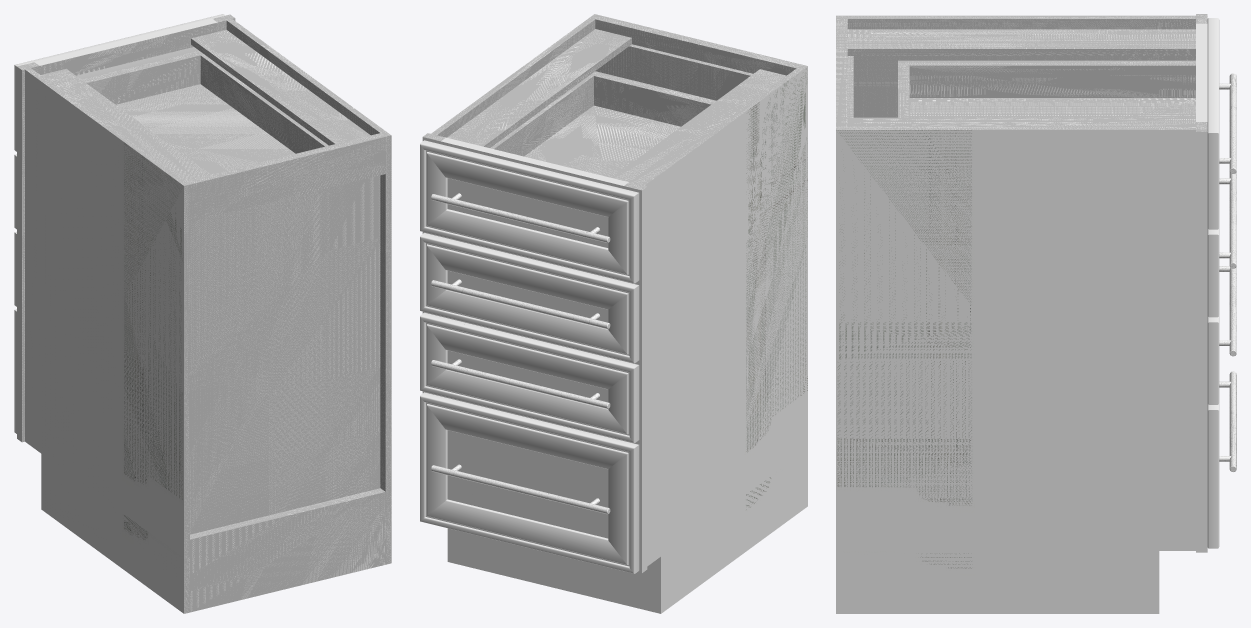
3 renders of one model, left to right at view 1: azimuth 30°, elevation 25°; view 2: azimuth 150°, elevation 25°; view 3: azimuth 270°, elevation 25°, orthographic. The views are drawn at different scales.
Parts seen in each view (by area): view 1: mesh4_mesh4-geometry, mesh7_mesh7-geometry, mesh12_mesh12-geometry, mesh8_mesh8-geometry, mesh3_mesh3-geometry, mesh19_mesh19-geometry, mesh6_mesh6-geometry, mesh10_mesh10-geometry, mesh14_mesh14-geometry, mesh5_mesh5-geometry, mesh15_mesh15-geometry, mesh16_mesh16-geometry (+4 smaller); view 2: mesh7_mesh7-geometry, mesh27_mesh27-geometry, mesh28_mesh28-geometry, mesh26_mesh26-geometry, mesh8_mesh8-geometry, mesh13_mesh13-geometry, mesh22_mesh22-geometry, mesh14_mesh14-geometry, mesh19_mesh19-geometry, mesh21_mesh21-geometry, mesh23_mesh23-geometry, mesh29_mesh29-geometry (+12 smaller); view 3: mesh10_mesh10-geometry, mesh11_mesh11-geometry, mesh9_mesh9-geometry, mesh16_mesh16-geometry, mesh15_mesh15-geometry, mesh7_mesh7-geometry, mesh19_mesh19-geometry, mesh2_mesh2-geometry, mesh14_mesh14-geometry, mesh33_mesh33-geometry, mesh21_mesh21-geometry, mesh30_mesh30-geometry (+7 smaller).
Part boxes in pixels (box(x1,y1,x2,y2)): mesh4_mesh4-geometry: box(190, 175, 380, 534); mesh7_mesh7-geometry: box(41, 80, 189, 557); mesh12_mesh12-geometry: box(190, 488, 385, 612); mesh8_mesh8-geometry: box(41, 454, 189, 613); mesh3_mesh3-geometry: box(185, 133, 385, 221); mesh19_mesh19-geometry: box(116, 84, 295, 174); mesh6_mesh6-geometry: box(25, 68, 46, 453); mesh10_mesh10-geometry: box(242, 31, 391, 508); mesh14_mesh14-geometry: box(191, 29, 370, 145); mesh5_mesh5-geometry: box(35, 19, 217, 75); mesh15_mesh15-geometry: box(41, 68, 210, 180); mesh16_mesh16-geometry: box(196, 51, 328, 153); mesh7_mesh7-geometry: box(655, 64, 807, 556); mesh27_mesh27-geometry: box(462, 150, 596, 466); mesh28_mesh28-geometry: box(462, 211, 593, 563); mesh26_mesh26-geometry: box(464, 183, 593, 532); mesh8_mesh8-geometry: box(655, 449, 807, 613); mesh13_mesh13-geometry: box(453, 530, 654, 612); mesh22_mesh22-geometry: box(591, 182, 639, 477); mesh14_mesh14-geometry: box(447, 29, 631, 147); mesh19_mesh19-geometry: box(524, 105, 680, 177); mesh21_mesh21-geometry: box(420, 140, 466, 434); mesh23_mesh23-geometry: box(591, 242, 639, 573); mesh29_mesh29-geometry: box(593, 214, 639, 544); mesh10_mesh10-geometry: box(836, 126, 1159, 550); mesh11_mesh11-geometry: box(836, 551, 1159, 613); mesh9_mesh9-geometry: box(1159, 126, 1195, 550); mesh16_mesh16-geometry: box(898, 60, 1195, 97); mesh15_mesh15-geometry: box(847, 29, 1195, 55); mesh7_mesh7-geometry: box(836, 15, 1159, 117); mesh19_mesh19-geometry: box(909, 98, 1195, 117); mesh2_mesh2-geometry: box(1196, 14, 1207, 552); mesh14_mesh14-geometry: box(847, 117, 1195, 126); mesh33_mesh33-geometry: box(1229, 73, 1236, 471); mesh21_mesh21-geometry: box(1207, 110, 1219, 442); mesh30_mesh30-geometry: box(1207, 165, 1219, 515).
Bounding box in the file's own units: 0.3851 × 0.7381 × 0.5539.
